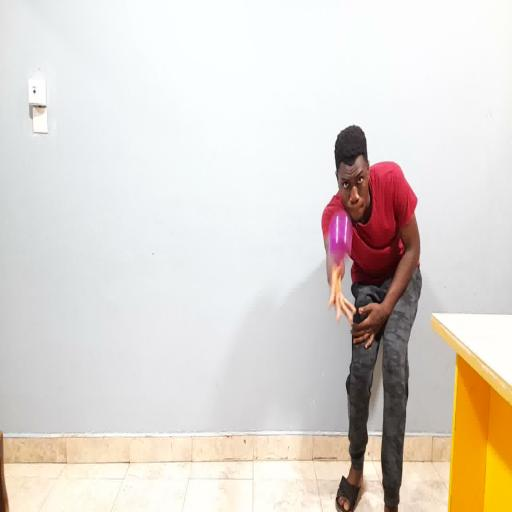plastic-ball: (329, 211, 352, 263)
